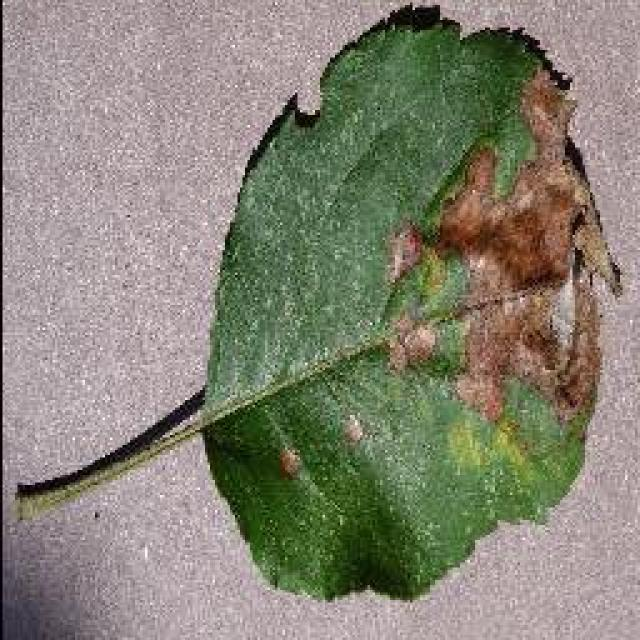Black_rot: (10, 0, 620, 602)
